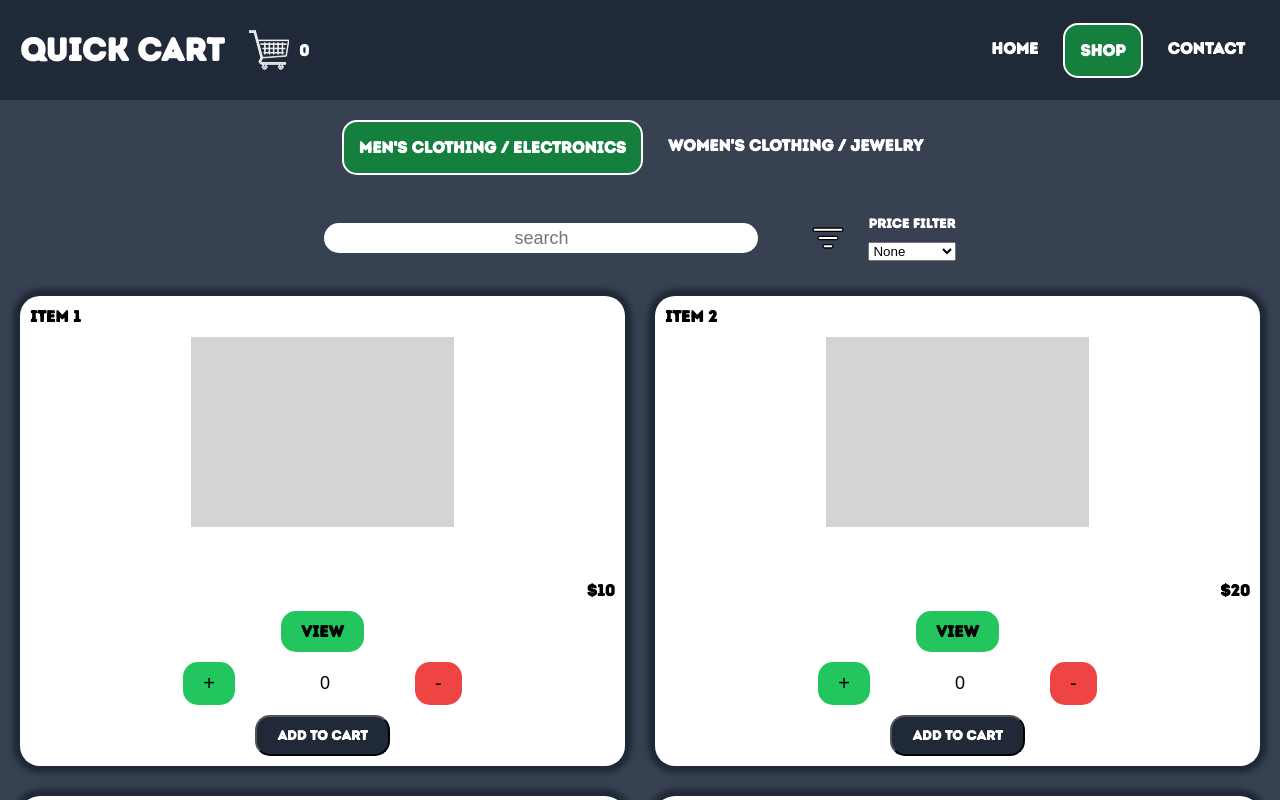
Scenario: Men component tests › increments input value by 1 when + clicked
The image size is (1280, 800).
Click the 1st button "+".
click(209, 684)  # box [183, 662, 235, 705]
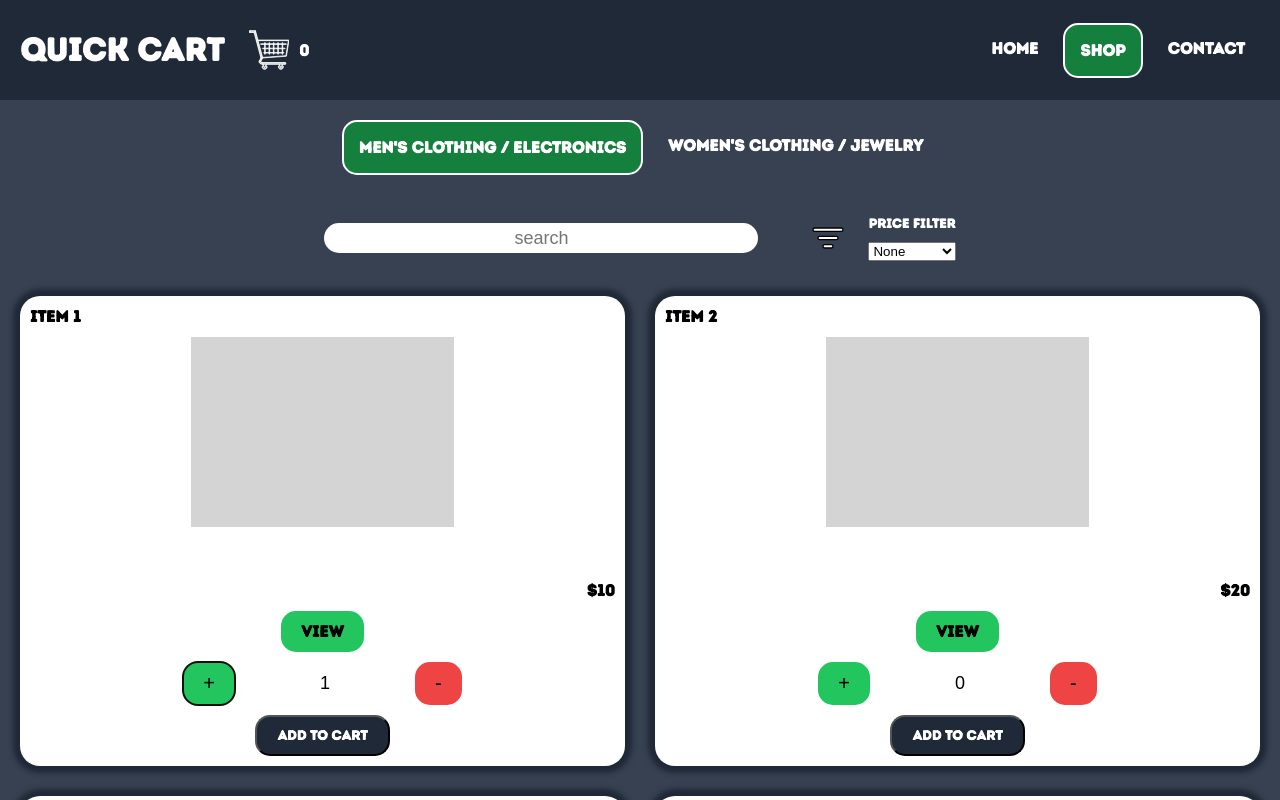
Check: the field with test id "inputbox" below "10" holds "1", box [262, 668, 388, 698]
